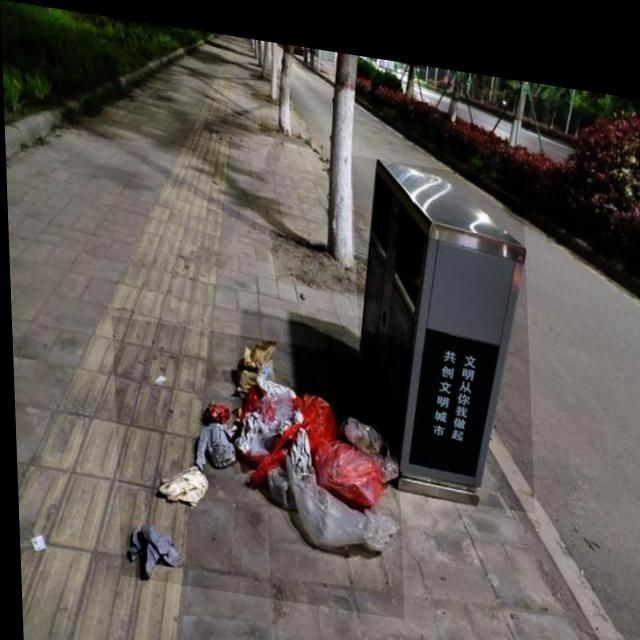garbage: (110, 312, 400, 607)
garbage_bin: (351, 144, 532, 497)
